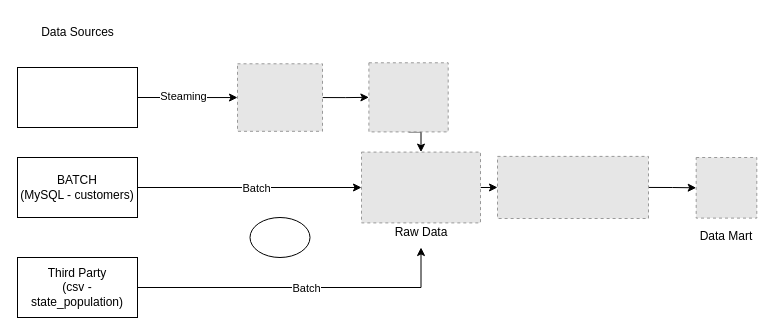
Some shapes in this 784 by 335 pixel diagram are drawn without their labels. Grey dashed boxes stand in for pictures. Each missing label, with the centre of its shape:
"gsutil" belongs at [279,237].
"Real-Time （JSON Message - orders）" belongs at [77,97].
